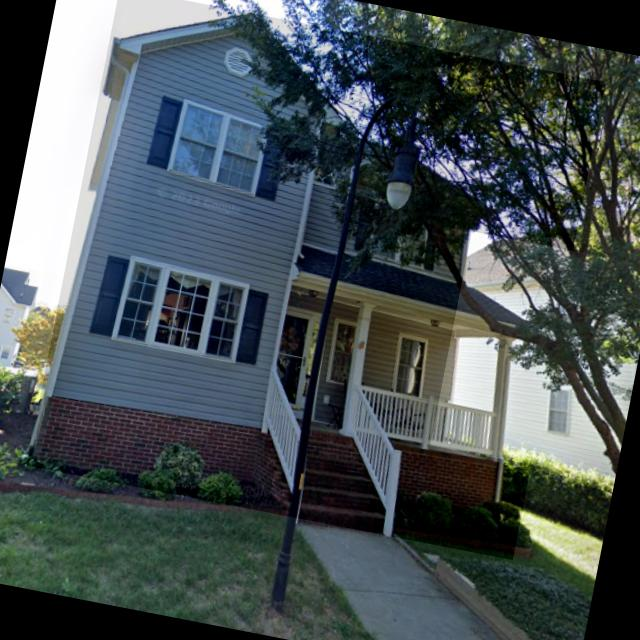House: (26, 0, 605, 560), (430, 232, 640, 481), (0, 265, 41, 377)
